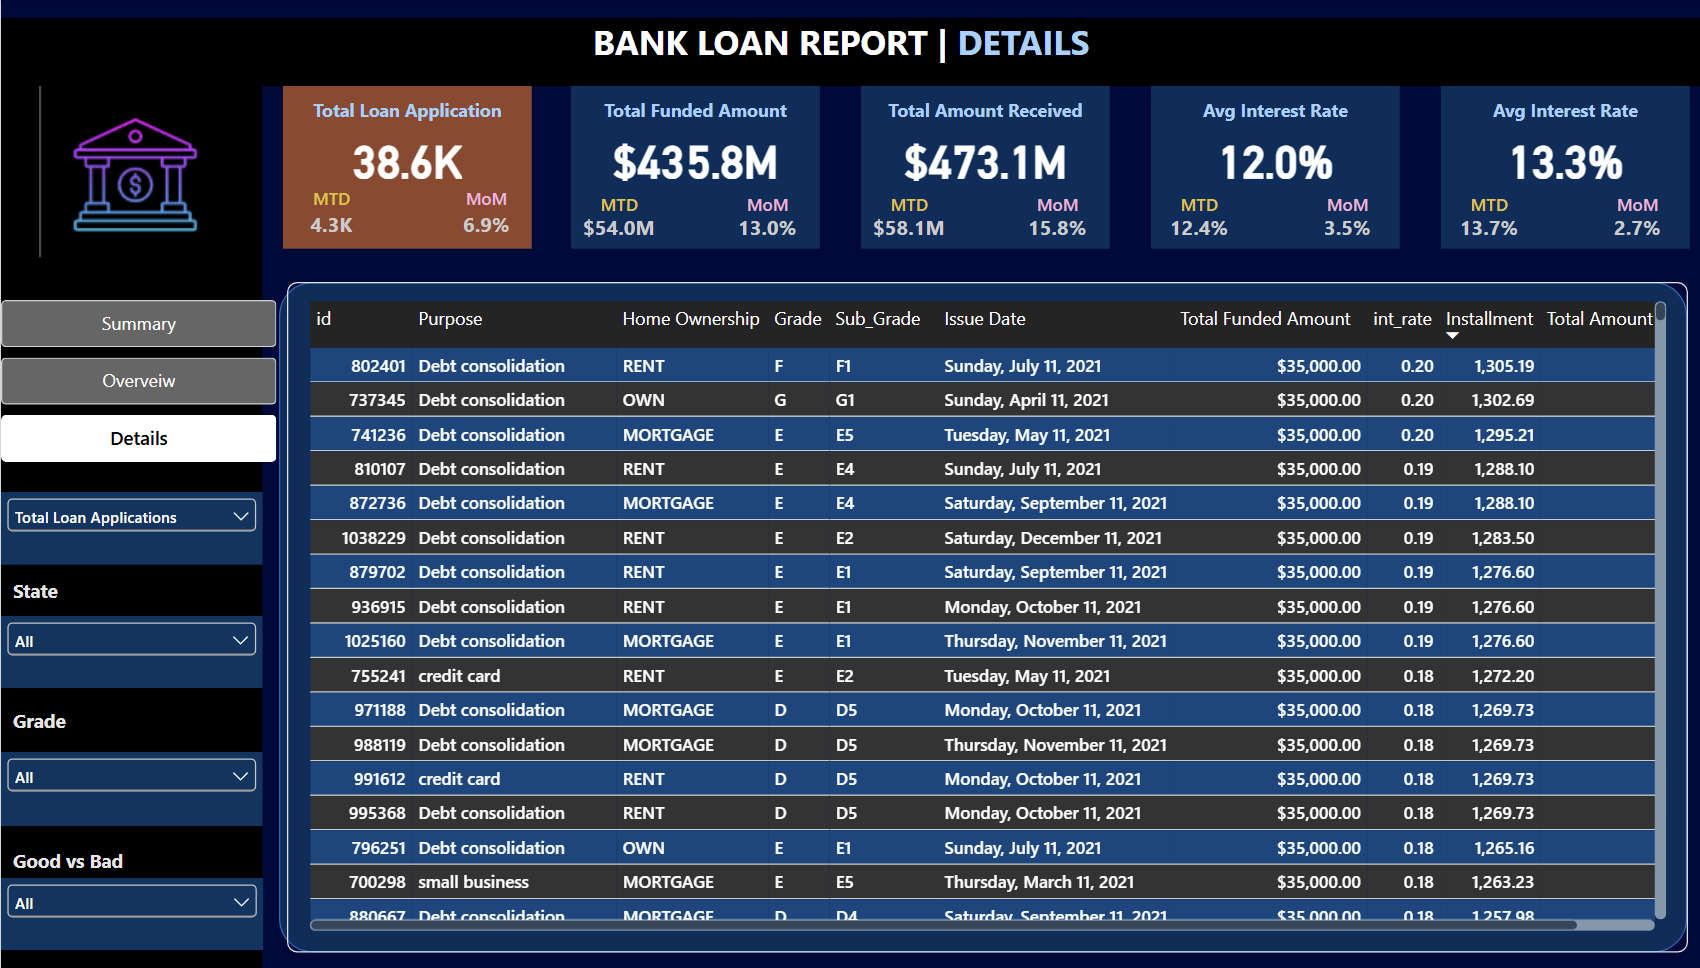

This screenshot's page, from the dashboard's own definition file:
{"tool":"powerbi","page":{"name":"Details","canvas":[1920,1080],"ordinal":2},"visuals":[{"type":"shape","box":[218.2,221.8,1103.6,525.5],"z":0},{"type":"shape","box":[0,15,1920,53.8],"z":1000},{"type":"shape","box":[0,43.8,205,1026.2],"z":2000},{"type":"textbox","box":[463.8,15,475,38.8],"z":3000},{"type":"textbox","box":[221.2,68.8,195,127.5],"z":3000,"group":"g1"},{"type":"textbox","box":[446.6,68.8,195,127.5],"z":3000,"group":"g2"},{"type":"textbox","box":[673.4,68.8,195,127.5],"z":3000,"group":"g3"},{"type":"textbox","box":[900.3,68.8,195,127.5],"z":3000,"group":"g4"},{"type":"textbox","box":[1127.2,68.8,195,127.5],"z":3000,"group":"g5"},{"type":"group","id":"g1","title":"Group 1","box":[221.2,68.8,195,127.5],"z":4000},{"type":"cardVisual","fields":{"Data":["bank_loan_data.Total Loan Applications"]},"box":[221.2,102.6,195,50],"z":4000,"group":"g1"},{"type":"cardVisual","fields":{"Data":["bank_loan_data.Total Funded Amount"]},"box":[446.6,102.6,195,50],"z":4000,"group":"g2"},{"type":"cardVisual","fields":{"Data":["bank_loan_data.Total Amount Received"]},"box":[673.4,102.6,195,50],"z":4000,"group":"g3"},{"type":"cardVisual","fields":{"Data":["bank_loan_data.Average Interest Rate"]},"box":[900.3,102.6,195,50],"z":4000,"group":"g4"},{"type":"cardVisual","fields":{"Data":["bank_loan_data.Avg DTI"]},"box":[1127.2,102.6,195,50],"z":4000,"group":"g5"},{"type":"group","id":"g2","title":"Group 1","box":[439.4,68.8,203.8,127.5],"z":5000},{"type":"textbox","box":[221.2,77.6,195,25],"z":5000,"group":"g1"},{"type":"textbox","box":[446.6,77.6,195,25],"z":5000,"group":"g2"},{"type":"textbox","box":[673.4,77.6,195,25],"z":5000,"group":"g3"},{"type":"textbox","box":[900.3,77.6,195,25],"z":5000,"group":"g4"},{"type":"textbox","box":[1127.2,77.6,195,25],"z":5000,"group":"g5"},{"type":"group","id":"g3","title":"Group 1","box":[666.2,68.8,203.8,127.5],"z":6000},{"type":"cardVisual","title":"MoM","fields":{"Data":["bank_loan_data.MOM Loan Application"]},"box":[345,147.6,71.2,40],"z":6000,"group":"g1"},{"type":"cardVisual","title":"MoM","fields":{"Data":["bank_loan_data.MOM Total funded amount"]},"box":[559.9,151.6,82.5,36.2],"z":6000,"group":"g2"},{"type":"cardVisual","title":"MoM","fields":{"Data":["bank_loan_data.MOM Total Amount Received"]},"box":[786.7,151.6,82.5,36.2],"z":6000,"group":"g3"},{"type":"cardVisual","title":"MoM","fields":{"Data":["bank_loan_data.MOM Avg Interest Rate"]},"box":[1013.6,151.6,82.5,36.2],"z":6000,"group":"g4"},{"type":"cardVisual","title":"MoM","fields":{"Data":["bank_loan_data.MOM Total Avg"]},"box":[1240.5,151.6,82.5,36.2],"z":6000,"group":"g5"},{"type":"group","id":"g4","title":"Group 1","box":[893.1,68.8,203.8,127.5],"z":7000},{"type":"cardVisual","title":"MTD","fields":{"Data":["bank_loan_data.MTD Loan Applications"]},"box":[221.2,147.6,76.2,40],"z":7000,"group":"g1"},{"type":"cardVisual","title":"MTD","fields":{"Data":["bank_loan_data.MTD Funded Amount"]},"box":[439.4,151.6,91.2,36.2],"z":7000,"group":"g2"},{"type":"cardVisual","title":"MTD","fields":{"Data":["bank_loan_data.MTD Total Amount Received"]},"box":[666.2,151.6,91.2,36.2],"z":7000,"group":"g3"},{"type":"cardVisual","title":"MTD","fields":{"Data":["bank_loan_data.MTD Avg Int Rate"]},"box":[893.1,151.6,91.2,36.2],"z":7000,"group":"g4"},{"type":"cardVisual","title":"MTD","fields":{"Data":["bank_loan_data.MTD Avg DTI"]},"box":[1120,151.6,91.2,36.2],"z":7000,"group":"g5"},{"type":"group","id":"g5","title":"Group 1","box":[1120,68.8,203.8,127.5],"z":8000},{"type":"slicer","fields":{"Values":["bank_loan_data.address_state"]},"box":[0,483.9,204.8,56.5],"z":9000},{"type":"textbox","box":[9.7,454.8,82.3,21],"z":10000},{"type":"slicer","fields":{"Values":["bank_loan_data.grade"]},"box":[0,590.3,204.8,58.1],"z":11000},{"type":"textbox","box":[9.1,557.1,61,32.5],"z":12000},{"type":"slicer","fields":{"Values":["bank_loan_data.Good v Bad Loan"]},"box":[0,690,205.6,56.7],"z":13000},{"type":"textbox","box":[8.9,666.7,132.2,23.3],"z":14000},{"type":"slicer","fields":{"Values":["Select Measure.Select Measure"]},"box":[0,387.1,205.2,57.1],"z":15000},{"type":"tableEx","fields":{"Values":["bank_loan_data.id","bank_loan_data.purpose","bank_loan_data.home_ownership","bank_loan_data.grade","bank_loan_data.sub_grade","bank_loan_data.issue_date","bank_loan_data.Total Funded Amount","bank_loan_data.int_rate","bank_loan_data.installment","bank_loan_data.Total Amount Received"]},"box":[223.6,221.8,1098.2,525.5],"z":16000},{"type":"pageNavigator","box":[0,237.1,216.4,129.1],"z":17000},{"type":"image","box":[21.8,69.1,160,134.5],"z":17001}]}

Visuals, with their boxes in screenshot pixels (x1, y1, x2, y2), scaled from the page's 1920x1080 canvas onto the 1700x968 screenshot:
shape: pyautogui.locateOnScreen(193, 199, 1170, 670)
shape: pyautogui.locateOnScreen(0, 13, 1699, 62)
shape: pyautogui.locateOnScreen(0, 39, 182, 959)
textbox: pyautogui.locateOnScreen(411, 13, 831, 48)
textbox: pyautogui.locateOnScreen(196, 62, 369, 176)
textbox: pyautogui.locateOnScreen(395, 62, 568, 176)
textbox: pyautogui.locateOnScreen(596, 62, 769, 176)
textbox: pyautogui.locateOnScreen(797, 62, 970, 176)
textbox: pyautogui.locateOnScreen(998, 62, 1171, 176)
"Group 1" group: pyautogui.locateOnScreen(196, 62, 369, 176)
cardVisual - bank_loan_data.Total Loan Applications: pyautogui.locateOnScreen(196, 92, 369, 137)
cardVisual - bank_loan_data.Total Funded Amount: pyautogui.locateOnScreen(395, 92, 568, 137)
cardVisual - bank_loan_data.Total Amount Received: pyautogui.locateOnScreen(596, 92, 769, 137)
cardVisual - bank_loan_data.Average Interest Rate: pyautogui.locateOnScreen(797, 92, 970, 137)
cardVisual - bank_loan_data.Avg DTI: pyautogui.locateOnScreen(998, 92, 1171, 137)
"Group 1" group: pyautogui.locateOnScreen(389, 62, 570, 176)
textbox: pyautogui.locateOnScreen(196, 70, 369, 92)
textbox: pyautogui.locateOnScreen(395, 70, 568, 92)
textbox: pyautogui.locateOnScreen(596, 70, 769, 92)
textbox: pyautogui.locateOnScreen(797, 70, 970, 92)
textbox: pyautogui.locateOnScreen(998, 70, 1171, 92)
"Group 1" group: pyautogui.locateOnScreen(590, 62, 770, 176)
"MoM" cardVisual: pyautogui.locateOnScreen(305, 132, 369, 168)
"MoM" cardVisual: pyautogui.locateOnScreen(496, 136, 569, 168)
"MoM" cardVisual: pyautogui.locateOnScreen(697, 136, 770, 168)
"MoM" cardVisual: pyautogui.locateOnScreen(897, 136, 971, 168)
"MoM" cardVisual: pyautogui.locateOnScreen(1098, 136, 1171, 168)
"Group 1" group: pyautogui.locateOnScreen(791, 62, 971, 176)
"MTD" cardVisual: pyautogui.locateOnScreen(196, 132, 263, 168)
"MTD" cardVisual: pyautogui.locateOnScreen(389, 136, 470, 168)
"MTD" cardVisual: pyautogui.locateOnScreen(590, 136, 671, 168)
"MTD" cardVisual: pyautogui.locateOnScreen(791, 136, 872, 168)
"MTD" cardVisual: pyautogui.locateOnScreen(992, 136, 1072, 168)
"Group 1" group: pyautogui.locateOnScreen(992, 62, 1172, 176)
slicer - bank_loan_data.address_state: pyautogui.locateOnScreen(0, 434, 181, 484)
textbox: pyautogui.locateOnScreen(9, 408, 81, 426)
slicer - bank_loan_data.grade: pyautogui.locateOnScreen(0, 529, 181, 581)
textbox: pyautogui.locateOnScreen(8, 499, 62, 528)
slicer - bank_loan_data.Good v Bad Loan: pyautogui.locateOnScreen(0, 618, 182, 669)
textbox: pyautogui.locateOnScreen(8, 598, 125, 618)
slicer - Select Measure.Select Measure: pyautogui.locateOnScreen(0, 347, 182, 398)
tableEx - bank_loan_data.id x bank_loan_data.purpose: pyautogui.locateOnScreen(198, 199, 1170, 670)
pageNavigator: pyautogui.locateOnScreen(0, 213, 192, 328)
image: pyautogui.locateOnScreen(19, 62, 161, 182)
